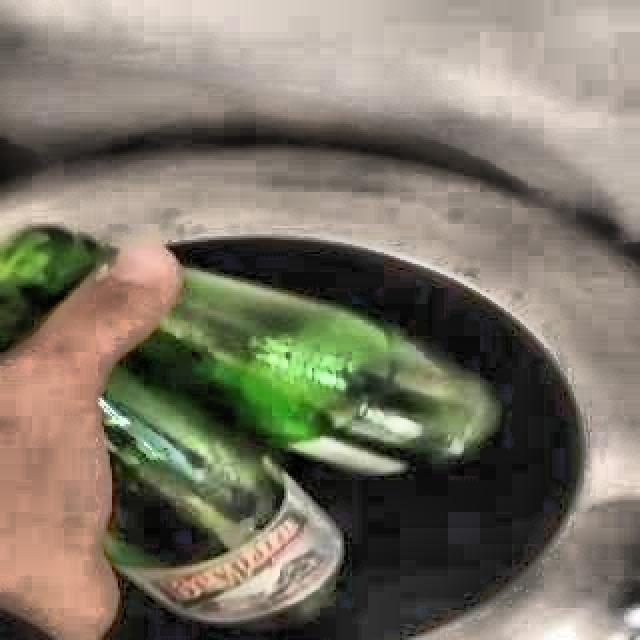glass: (101, 268, 496, 623), (0, 228, 101, 358)
